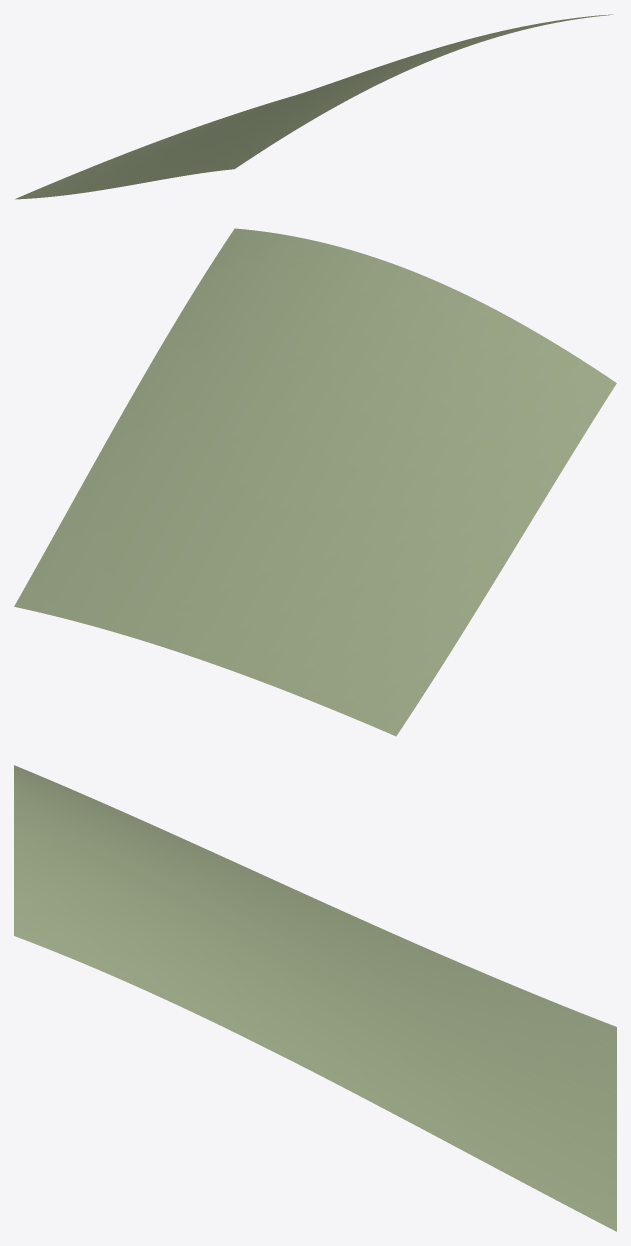
Rendered from alpine-9-0.glb.
3 views of the same model, one above another, from view 1: azimuth 30°, elevation 25°; view 2: azimuth 150°, elevation 25°; view 3: azimuth 270°, elevation 25° (orthographic). The views are drawn at different scales.
Visible parts, largest first — view 1: alpine-9-0; view 2: alpine-9-0; view 3: alpine-9-0.
Boxes of the visible parts, x1,y1,x2,y2 form: alpine-9-0: (15, 14, 612, 199); alpine-9-0: (14, 228, 616, 736); alpine-9-0: (14, 765, 616, 1231).
Size of the model in its own units: 256 by 167 by 256.
